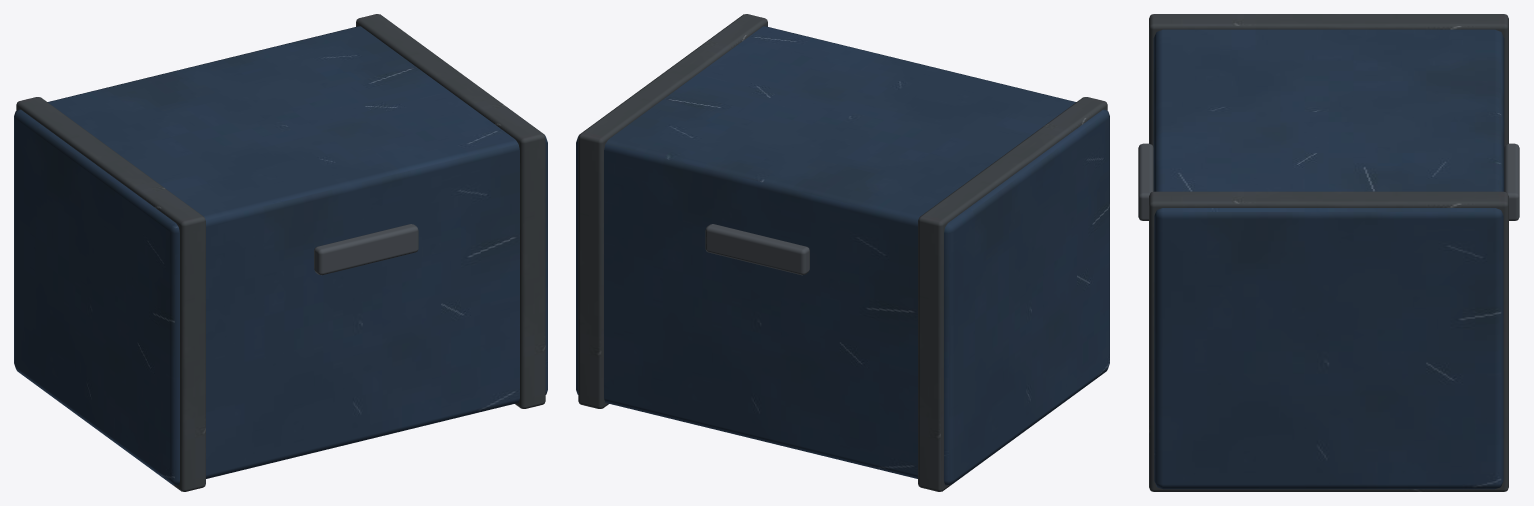
The model's file is SparePartsCrate.glb.
The picture shows the model from 3 angles, left to right: view 1: azimuth 30°, elevation 25°; view 2: azimuth 150°, elevation 25°; view 3: azimuth 270°, elevation 25°; orthographic projection. The views are drawn at different scales.
Visible parts, largest first — view 1: SparePartsCrate_Body; view 2: SparePartsCrate_Body; view 3: SparePartsCrate_Body.
Boxes of the visible parts, <box> form: SparePartsCrate_Body: <box>14,14,547,491</box>; SparePartsCrate_Body: <box>576,14,1109,491</box>; SparePartsCrate_Body: <box>1138,14,1519,491</box>.
Size of the model in its own units: 0.6 by 0.412 by 0.49.
Materials: 3 (2 with a texture image).
